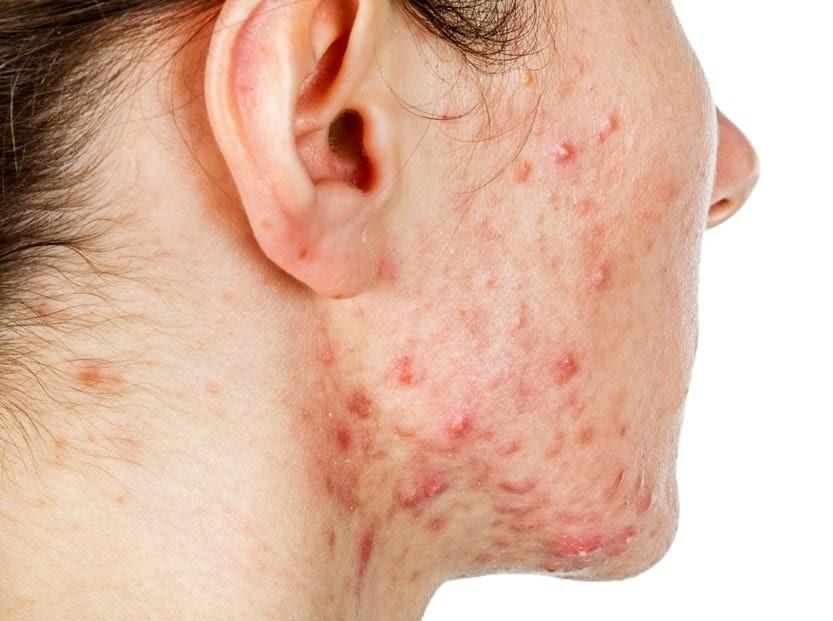Acne: (397, 89, 691, 582)
